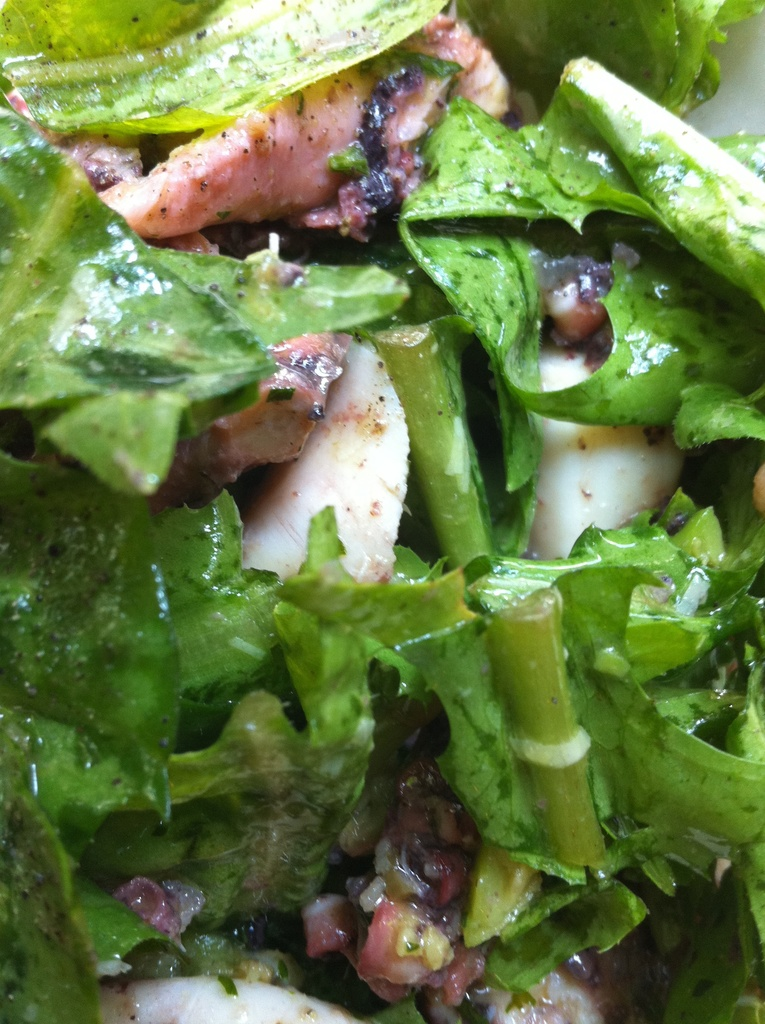face: (263, 7, 447, 243)
